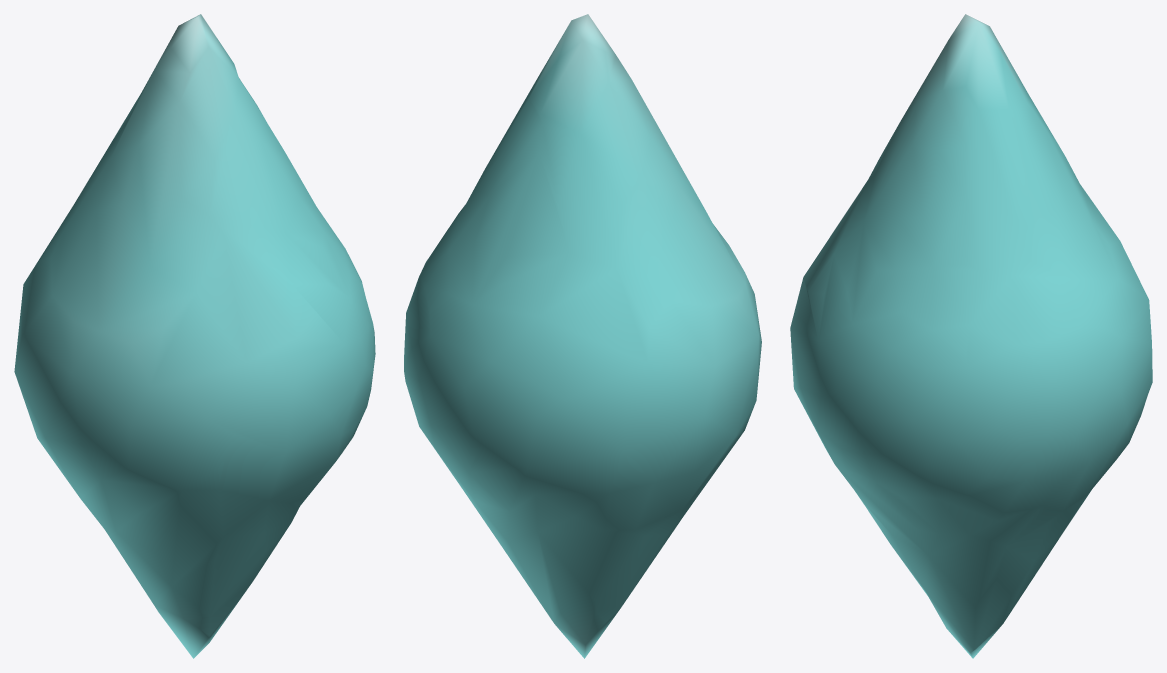
The model's file is env_p_shard.glb.
3 renders of one model, left to right at view 1: azimuth 30°, elevation 25°; view 2: azimuth 150°, elevation 25°; view 3: azimuth 270°, elevation 25°, orthographic.
Parts seen in each view (by area): view 1: geometry_0; view 2: geometry_0; view 3: geometry_0.
Boxes of the visible parts, x1=… form: geometry_0: x1=14, y1=14, x2=375, y2=658; geometry_0: x1=404, y1=14, x2=761, y2=658; geometry_0: x1=790, y1=14, x2=1152, y2=658.
Size of the model in its own units: 0.2027 by 0.404 by 0.2057.
